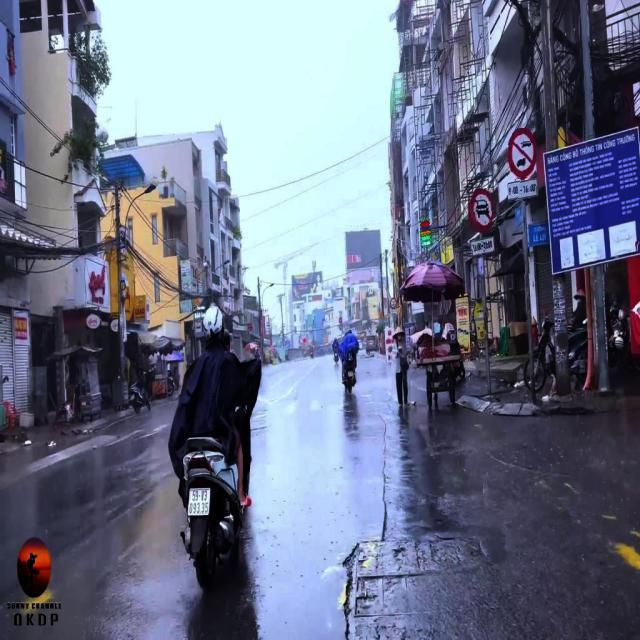103a-cam-oto: (469, 188, 496, 231)
107-cam-oto-khach-va-oto-tai: (506, 128, 536, 179)
